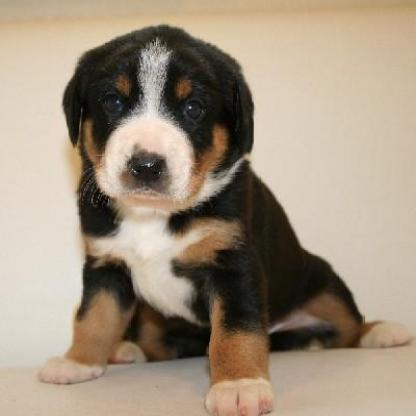EntleBucher: (37, 22, 409, 410)
